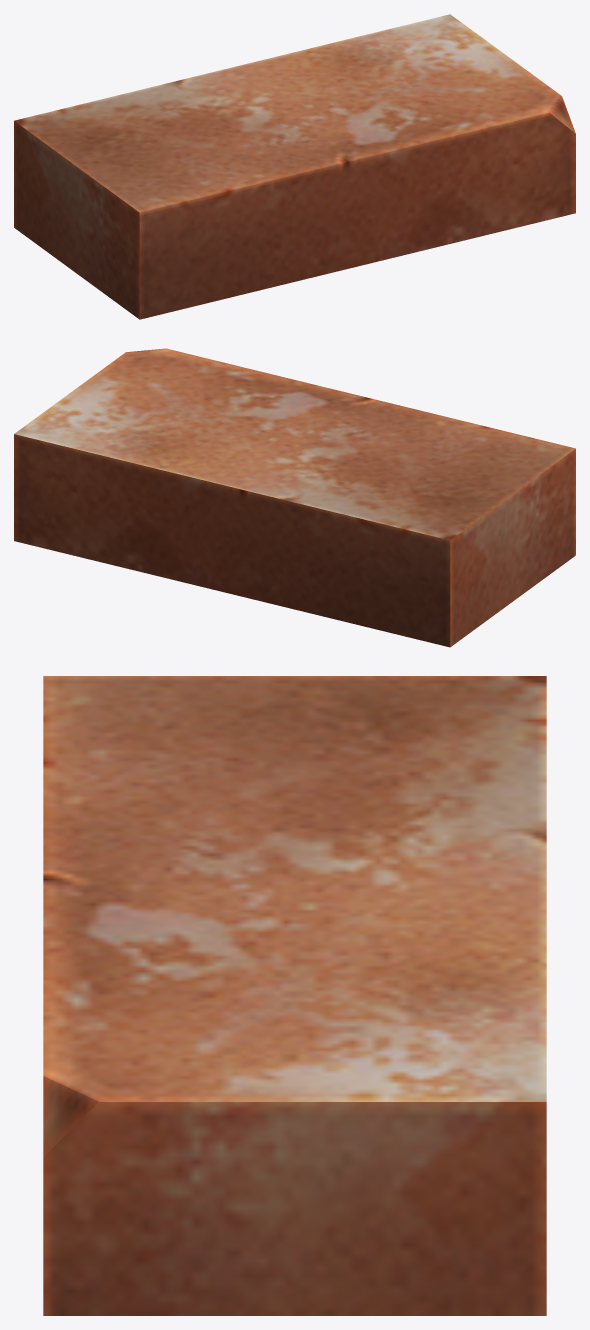
Rendered from MaLuBian_01_zhuantou_01.FBX.
3 renders of one model, top to bottom at view 1: azimuth 30°, elevation 25°; view 2: azimuth 150°, elevation 25°; view 3: azimuth 270°, elevation 25°, orthographic. The views are drawn at different scales.
Parts seen in each view (by area): view 1: MaLuBian_01_zhuantou_01; view 2: MaLuBian_01_zhuantou_01; view 3: MaLuBian_01_zhuantou_01.
Part boxes in pixels (x1=…): MaLuBian_01_zhuantou_01: x1=14, y1=14, x2=575, y2=319; MaLuBian_01_zhuantou_01: x1=14, y1=348, x2=575, y2=647; MaLuBian_01_zhuantou_01: x1=43, y1=676, x2=546, y2=1315.
Size of the model in its own units: 273 by 63.88 by 136.
